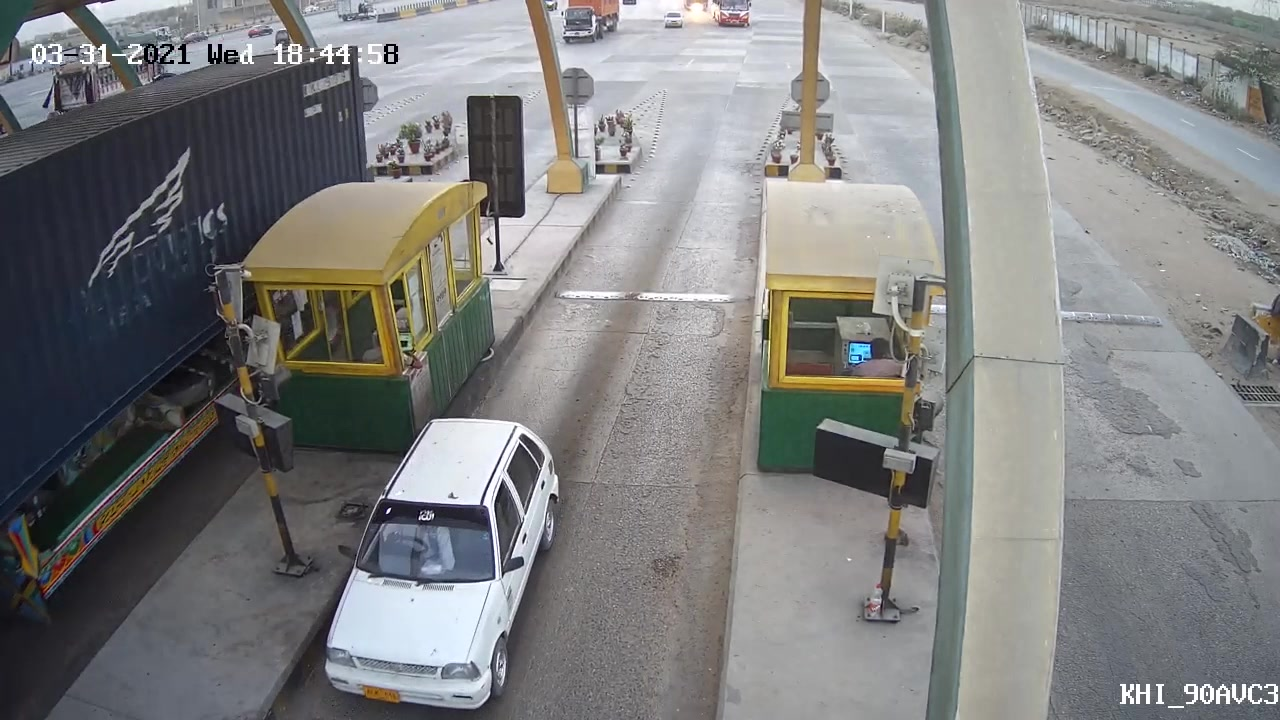F1: (308, 410, 574, 714)
